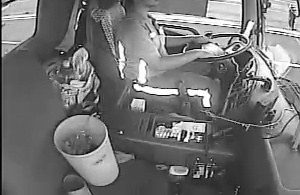paper: (171, 120, 207, 141)
